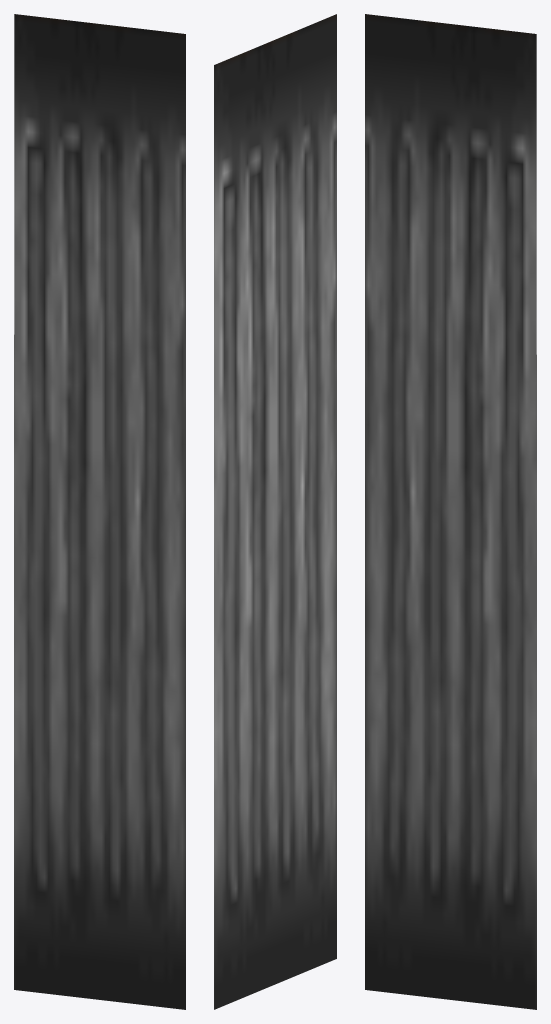
The model's file is W_I_wa_Verschluß [Wellblech]_813.glb.
The picture shows the model from 3 angles, left to right: view 1: azimuth 90°, elevation 25°; view 2: azimuth 150°, elevation 25°; view 3: azimuth 270°, elevation 25°; orthographic projection. The views are drawn at different scales.
Visible parts, largest first — view 1: pPlaneShape23; view 2: pPlaneShape23; view 3: pPlaneShape23.
Part boxes in pixels (bbox=[...]): pPlaneShape23: bbox=[14, 14, 185, 1009]; pPlaneShape23: bbox=[214, 14, 336, 1009]; pPlaneShape23: bbox=[365, 14, 536, 1009].
Bounding box in the file's own units: 0.0154 × 0.3486 × 0.0556.
Materials: 1 (1 with a texture image).
